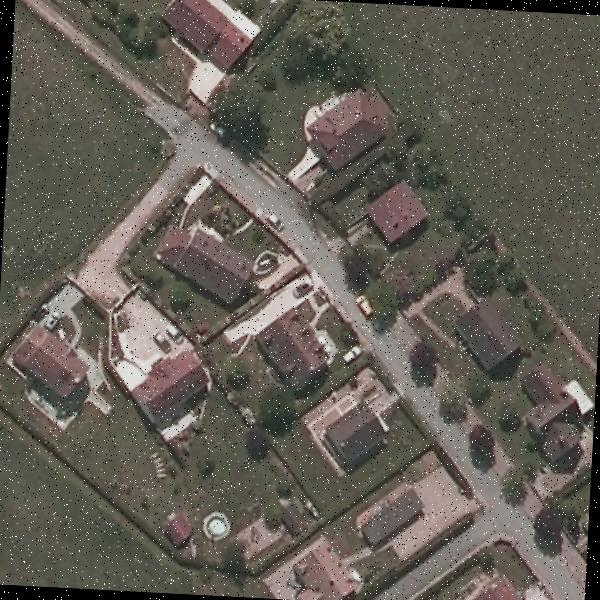Buildings: (159, 0, 259, 78), (314, 82, 390, 168), (165, 228, 252, 300), (6, 322, 88, 398), (259, 303, 329, 390), (119, 347, 203, 415), (528, 363, 588, 451), (322, 398, 399, 462), (285, 539, 365, 600), (368, 176, 426, 249), (444, 564, 556, 600), (459, 308, 524, 368), (356, 500, 422, 542), (167, 516, 192, 546)
